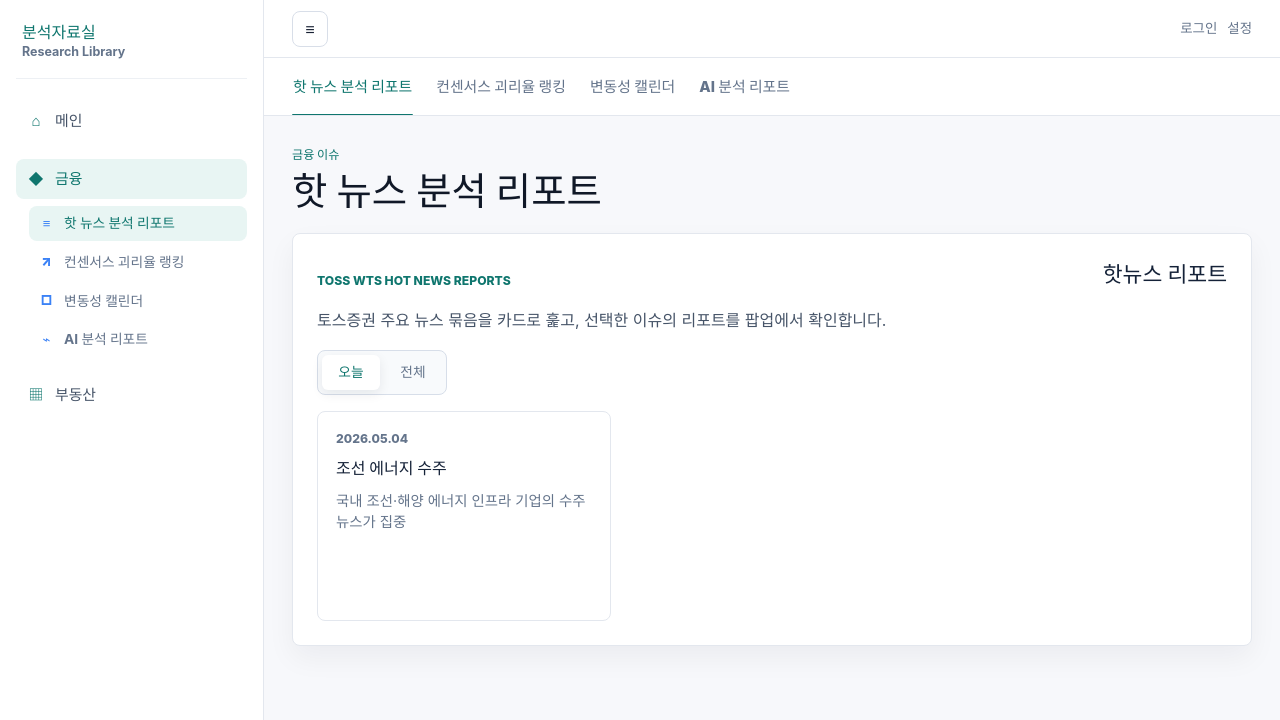
it: App routing › navigates between finance pages from underline tabs
Check: the heading "핫 뉴스 분석 리포트" is shown, box [292,168,602,214]
Click the tab "AI 분석 리포트" at (745, 94), box [698,73,791,115]
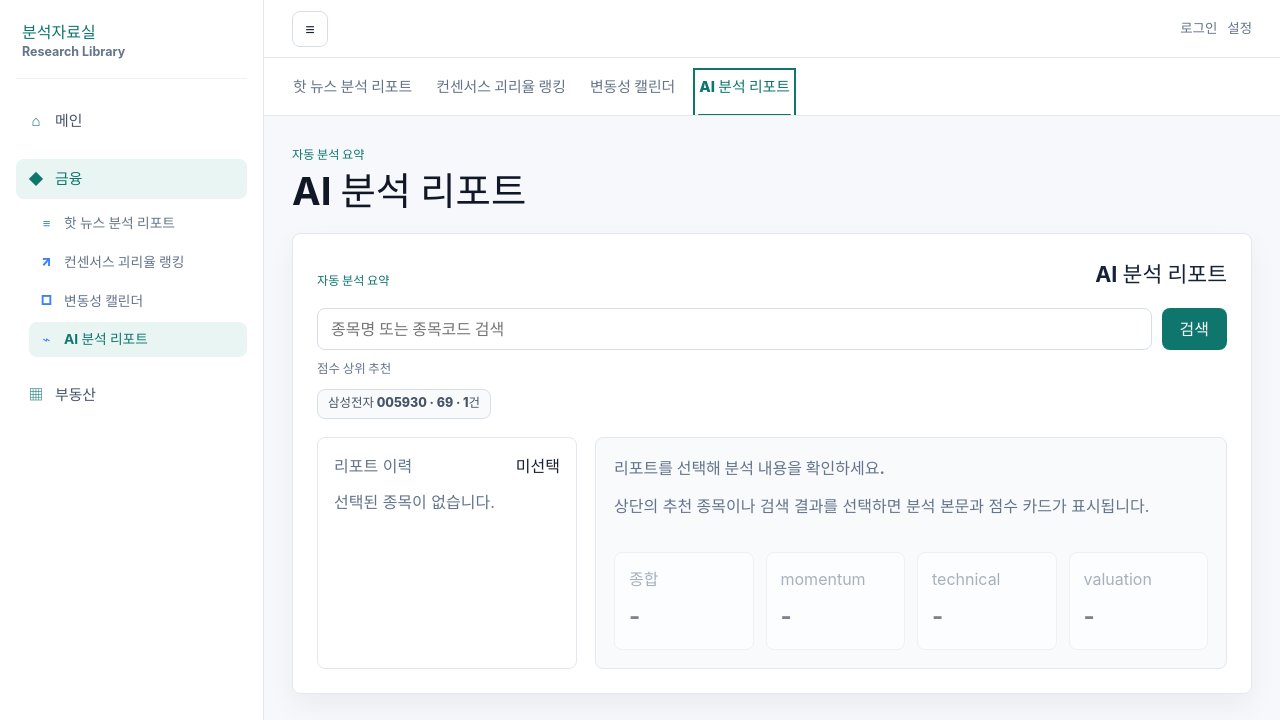
Check: the 1st heading "AI 분석 리포트" is shown, box [292,168,526,214]
Check: the search field labelled "종목명 또는 종목코드 검색" is empty, box [317,308,1152,350]
Check: the button "삼성전자 005930 · 69 · 1건" is shown, box [317,389,491,419]
